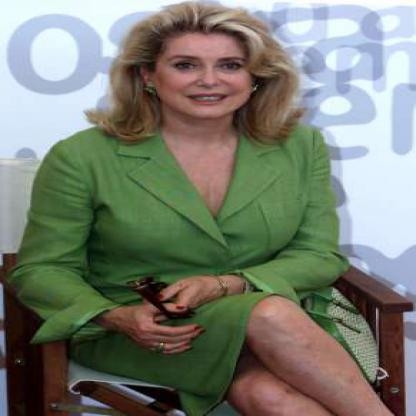face: (153, 11, 261, 120)
